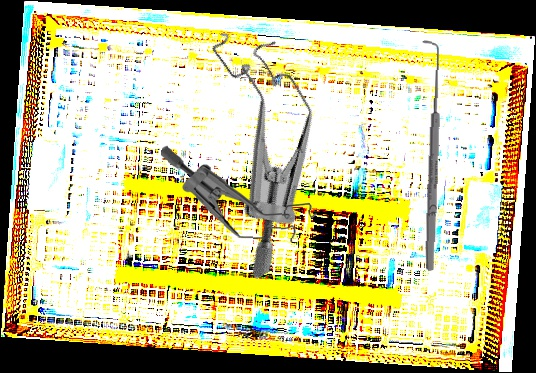Hook Surgical: (414, 39, 446, 272)
Speculum: (138, 11, 376, 281), (158, 144, 320, 245)
